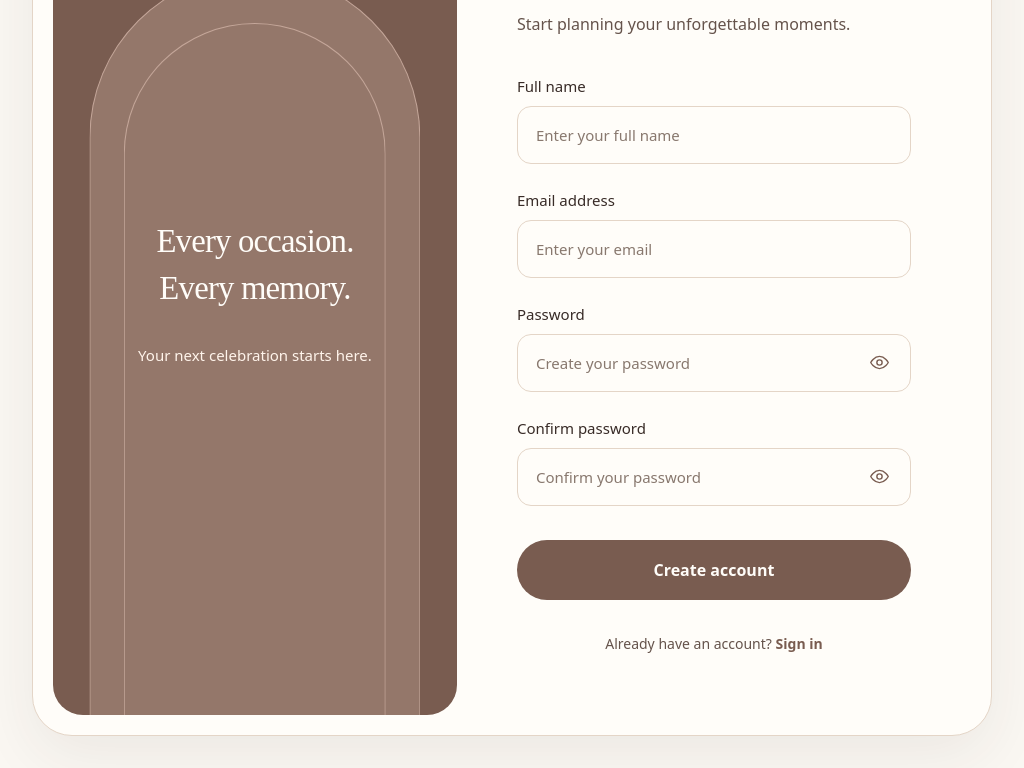
Authentication navigation › navigates from registration to login
(page scrolled)
Click the link "Sign in".
click(799, 643)  # box [776,634,823,653]
(page scrolled)
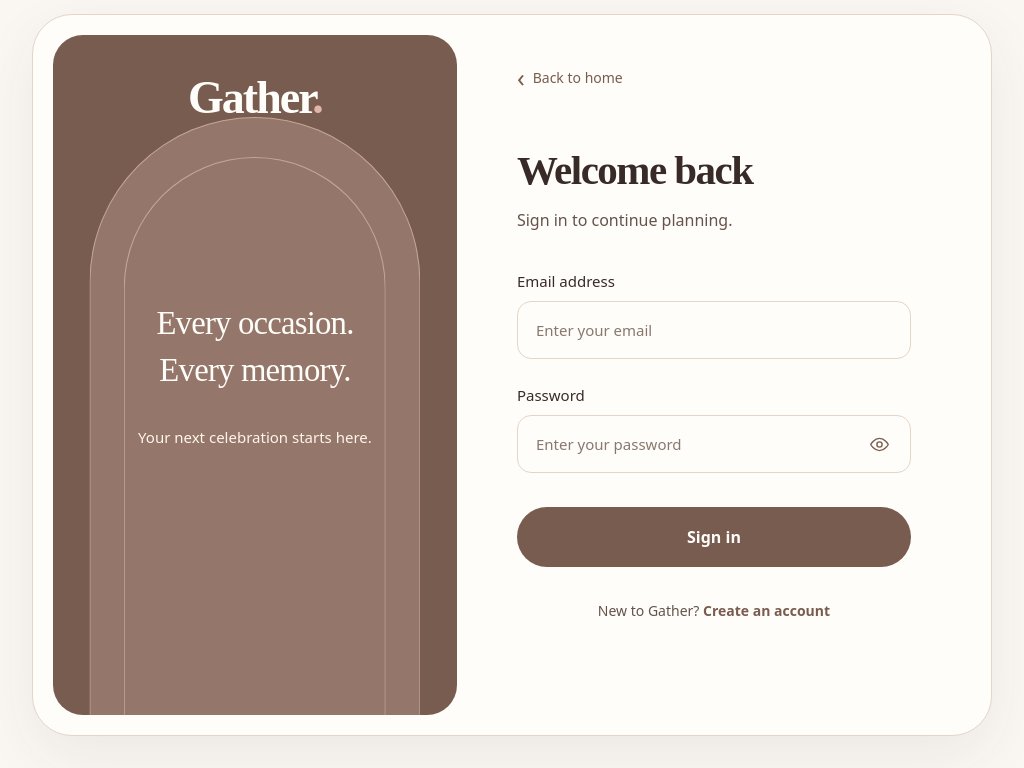
Expected: the heading "Welcome back" is shown, [517,147,752,193]
